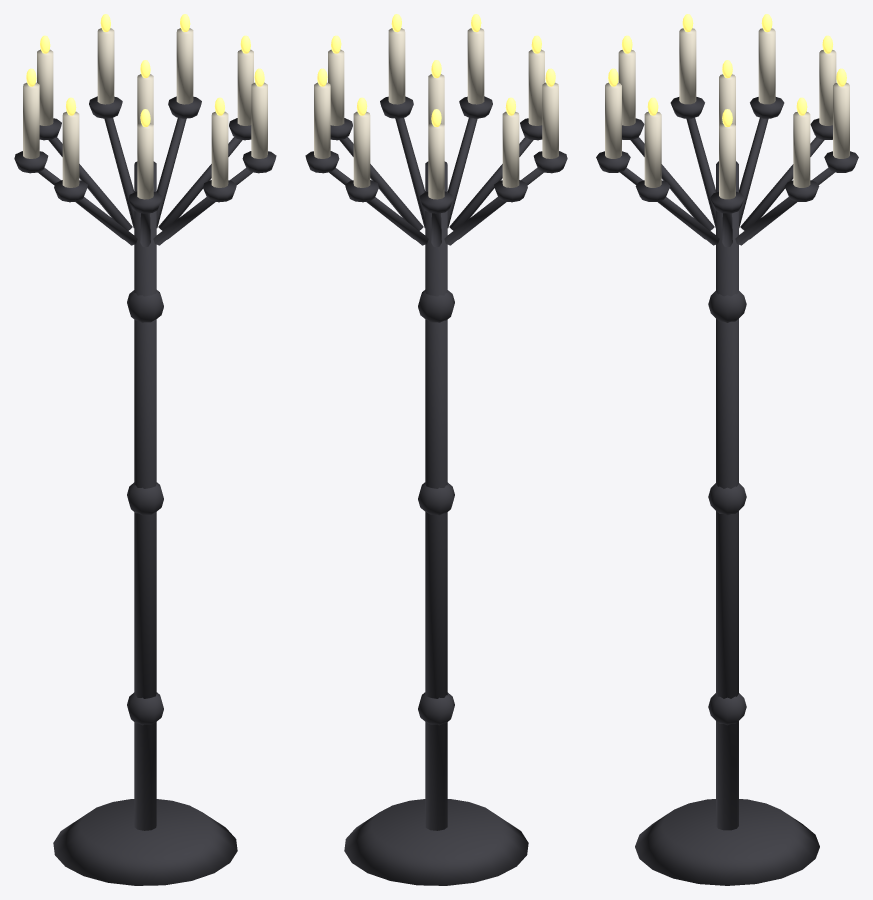
Rendered from grand_candelabra_tall_iron.glb.
3 renders of one model, left to right at view 1: azimuth 30°, elevation 25°; view 2: azimuth 150°, elevation 25°; view 3: azimuth 270°, elevation 25°, orthographic.
Parts seen in each view (by area): view 1: GD_grand_candelabra_tall_iron__m0, GD_grand_candelabra_tall_iron__m1, GD_grand_candelabra_tall_iron__m2; view 2: GD_grand_candelabra_tall_iron__m0, GD_grand_candelabra_tall_iron__m1, GD_grand_candelabra_tall_iron__m2; view 3: GD_grand_candelabra_tall_iron__m0, GD_grand_candelabra_tall_iron__m1, GD_grand_candelabra_tall_iron__m2.
Part boxes in pixels (x1,y1,x2,y2): GD_grand_candelabra_tall_iron__m0: [14, 96, 276, 885]; GD_grand_candelabra_tall_iron__m1: [23, 28, 267, 199]; GD_grand_candelabra_tall_iron__m2: [26, 14, 264, 126]; GD_grand_candelabra_tall_iron__m0: [305, 96, 567, 885]; GD_grand_candelabra_tall_iron__m1: [314, 28, 558, 199]; GD_grand_candelabra_tall_iron__m2: [317, 14, 555, 126]; GD_grand_candelabra_tall_iron__m0: [596, 97, 858, 885]; GD_grand_candelabra_tall_iron__m1: [605, 28, 849, 199]; GD_grand_candelabra_tall_iron__m2: [608, 14, 846, 126].
Size of the model in its own units: 0.6675 by 2.25 by 0.6809.
